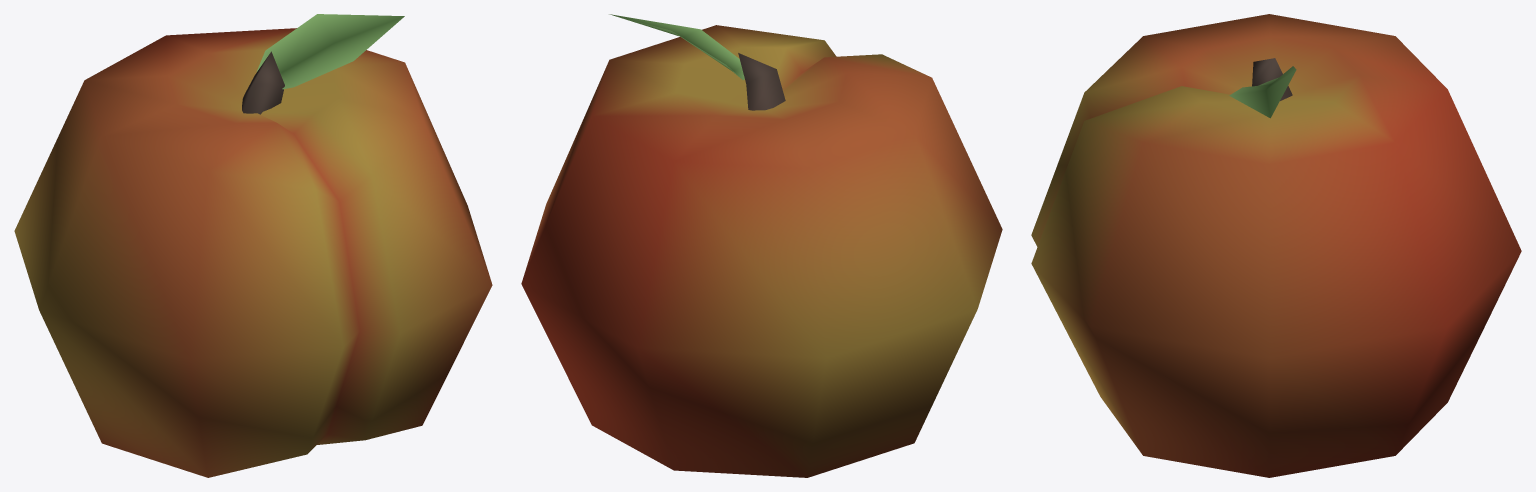
Rendered from FBX_Peach.fbx.
3 views of the same model, side by side, from view 1: azimuth 30°, elevation 25°; view 2: azimuth 150°, elevation 25°; view 3: azimuth 270°, elevation 25° (orthographic).
Visible parts, largest first — view 1: Peach; view 2: Peach; view 3: Peach.
Part boxes in pixels (x1,y1,x2,y2): Peach: (14, 14, 492, 477); Peach: (521, 14, 1002, 477); Peach: (1031, 14, 1521, 477).
Size of the model in its own units: 0.097 by 0.0884 by 0.0943.
